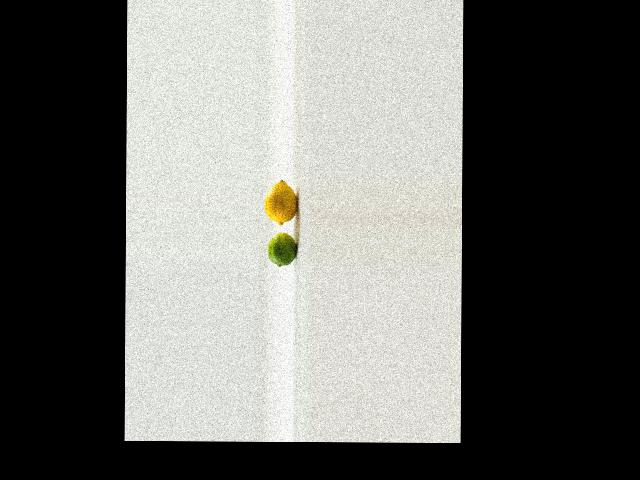lemon: (263, 180, 298, 223)
